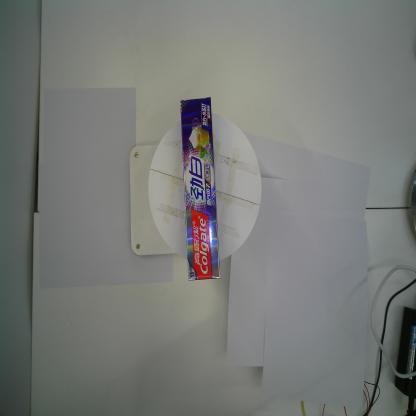Personal Hygiene: (181, 96, 220, 282)
